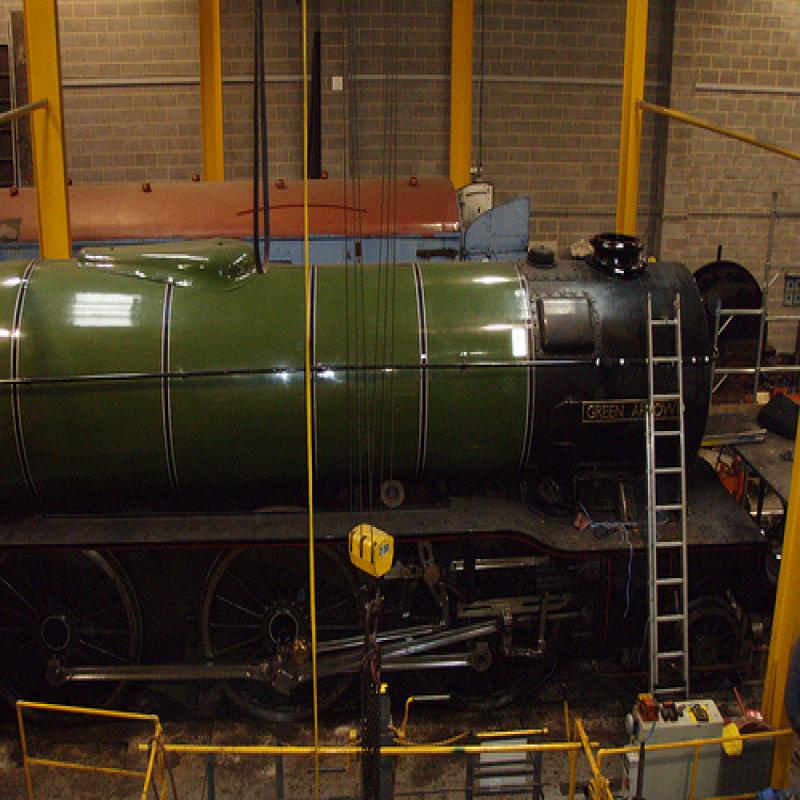train: (1, 240, 777, 728), (1, 182, 535, 269)
